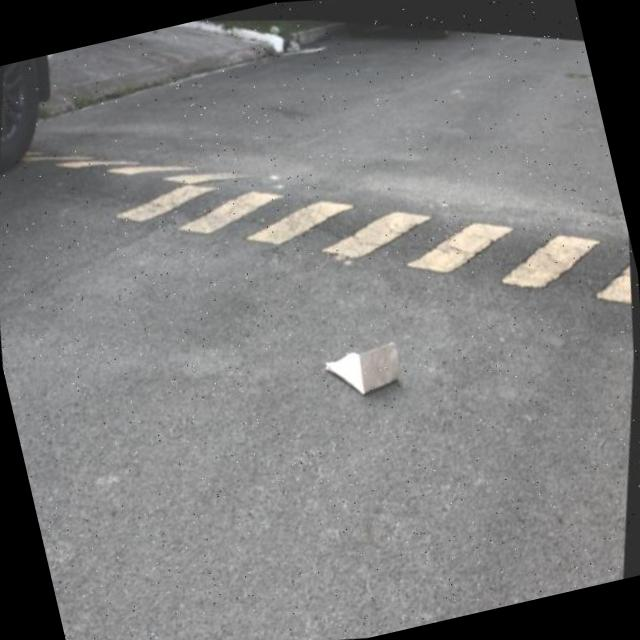Kardus: (320, 338, 406, 402)
